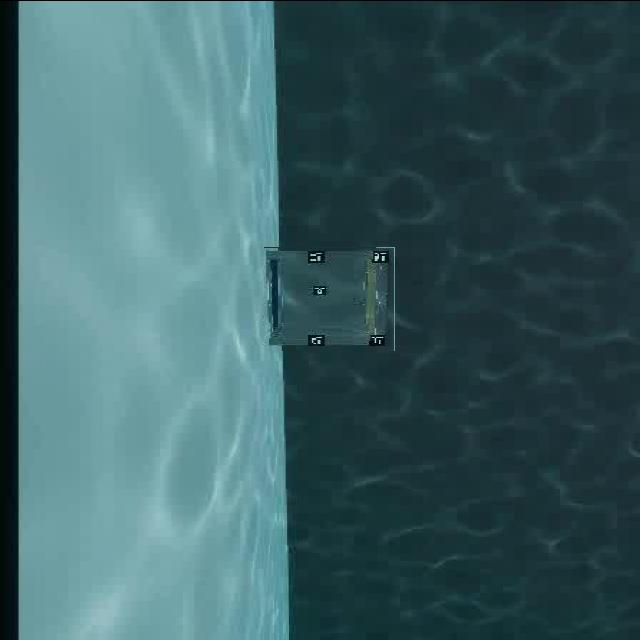Docking Station: (264, 246, 395, 350)
